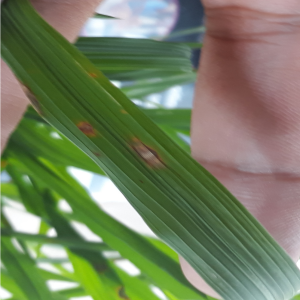Rice_Blast: (121, 124, 172, 184), (63, 107, 103, 149)
